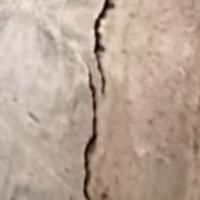crack: (72, 0, 124, 199)
